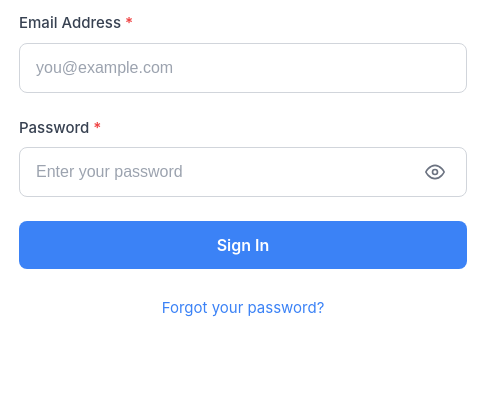
Test case: LoginForm › Email Validation › should show validation error on submit if email is empty
Click the button "Sign In" at [243, 245], box [19, 221, 467, 269]
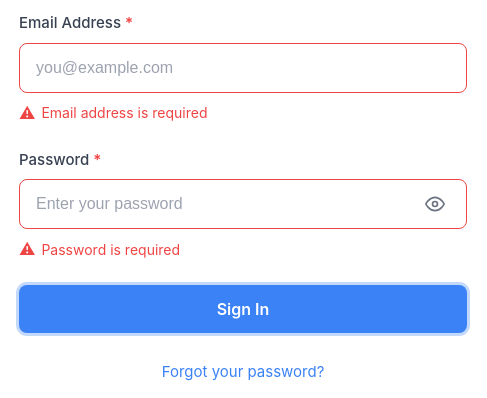
Expected: the text "Email address is required" is shown, [41, 104, 208, 121]
